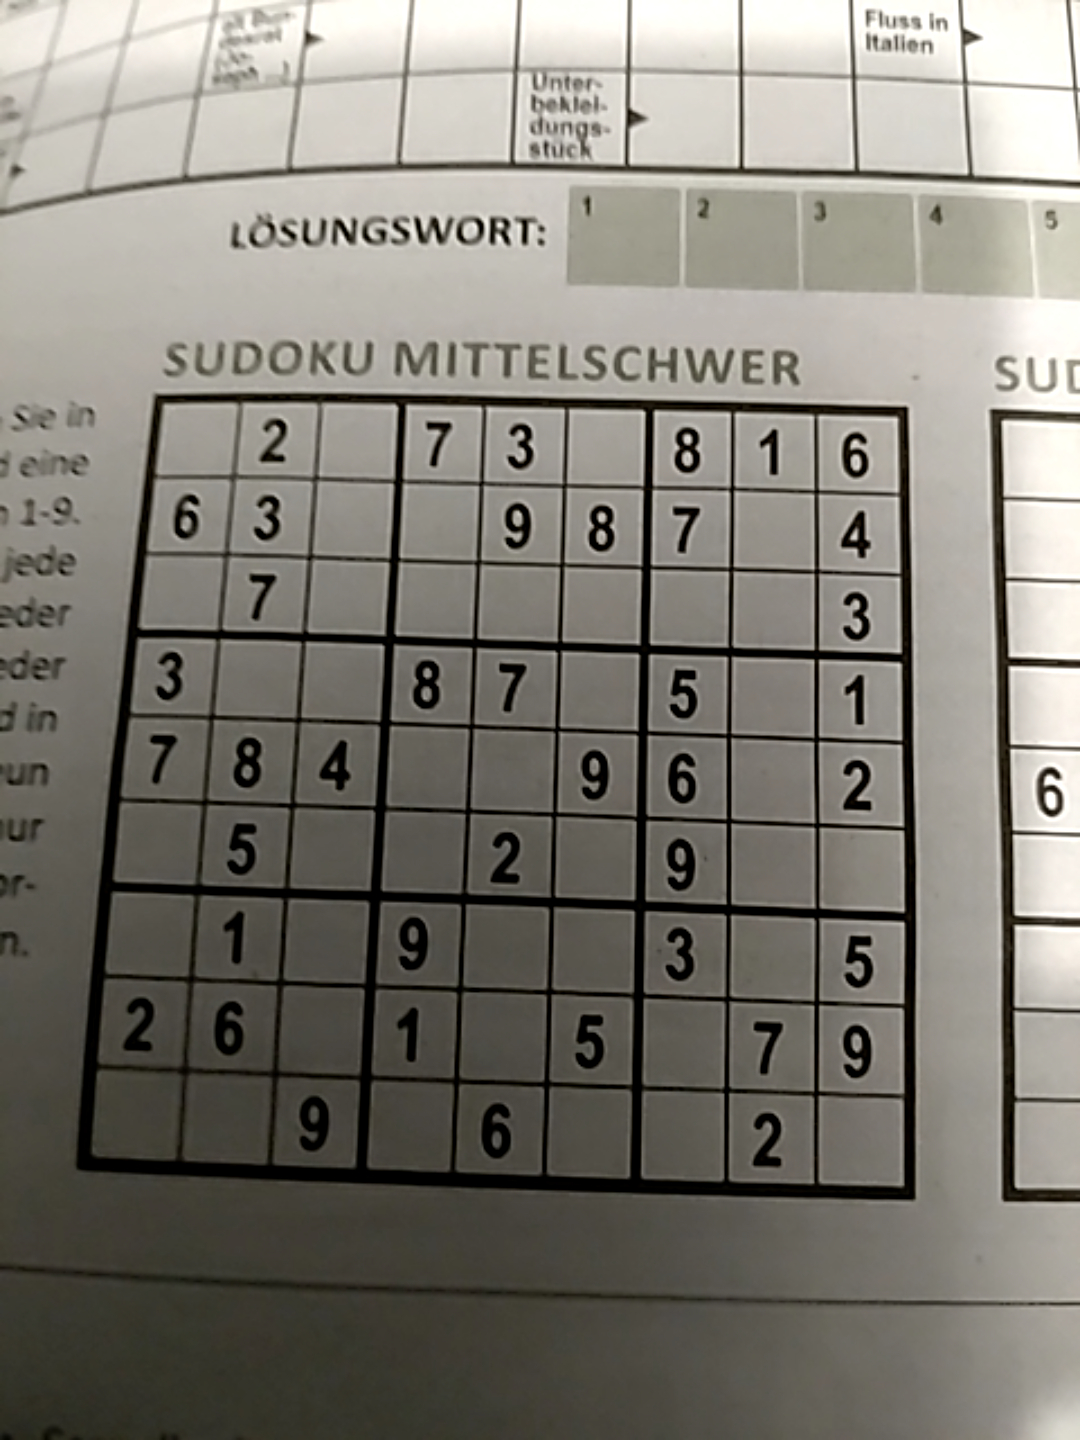sudoku: (84, 393, 920, 1204)
